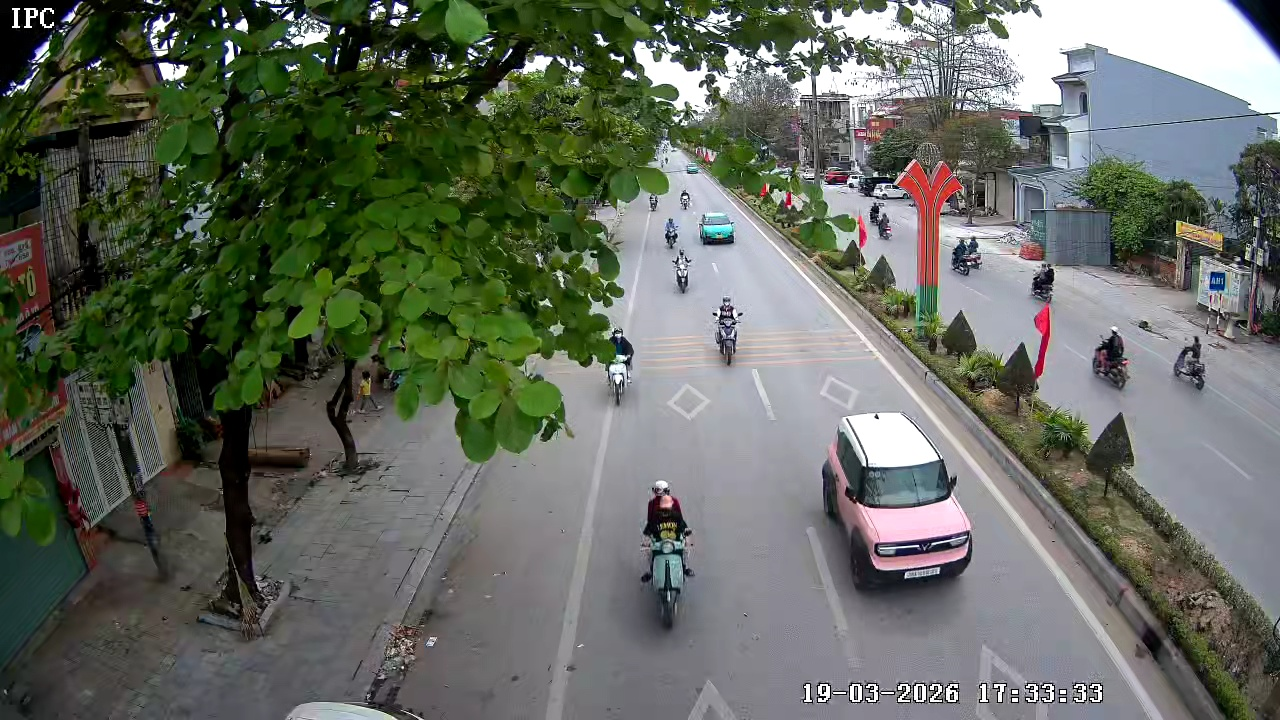bus: (1052, 40, 1100, 87)
car: (820, 410, 976, 590), (697, 209, 737, 246)
motorbike: (636, 479, 698, 631), (1091, 323, 1133, 392), (603, 324, 637, 407), (710, 293, 744, 367), (1171, 334, 1209, 392), (951, 232, 980, 278), (1030, 260, 1057, 302), (671, 246, 693, 294), (662, 215, 679, 250)
